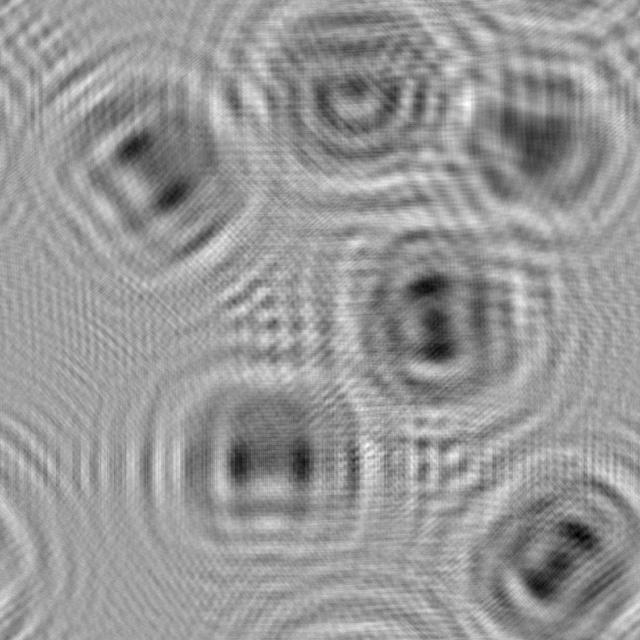A: (405, 0, 640, 262)
B: (304, 162, 571, 447), (430, 424, 640, 640)
D: (217, 0, 461, 226)
E: (0, 20, 284, 305), (119, 321, 409, 598)
